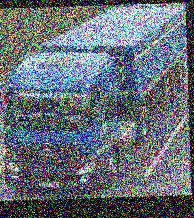truck: (0, 7, 189, 192)
